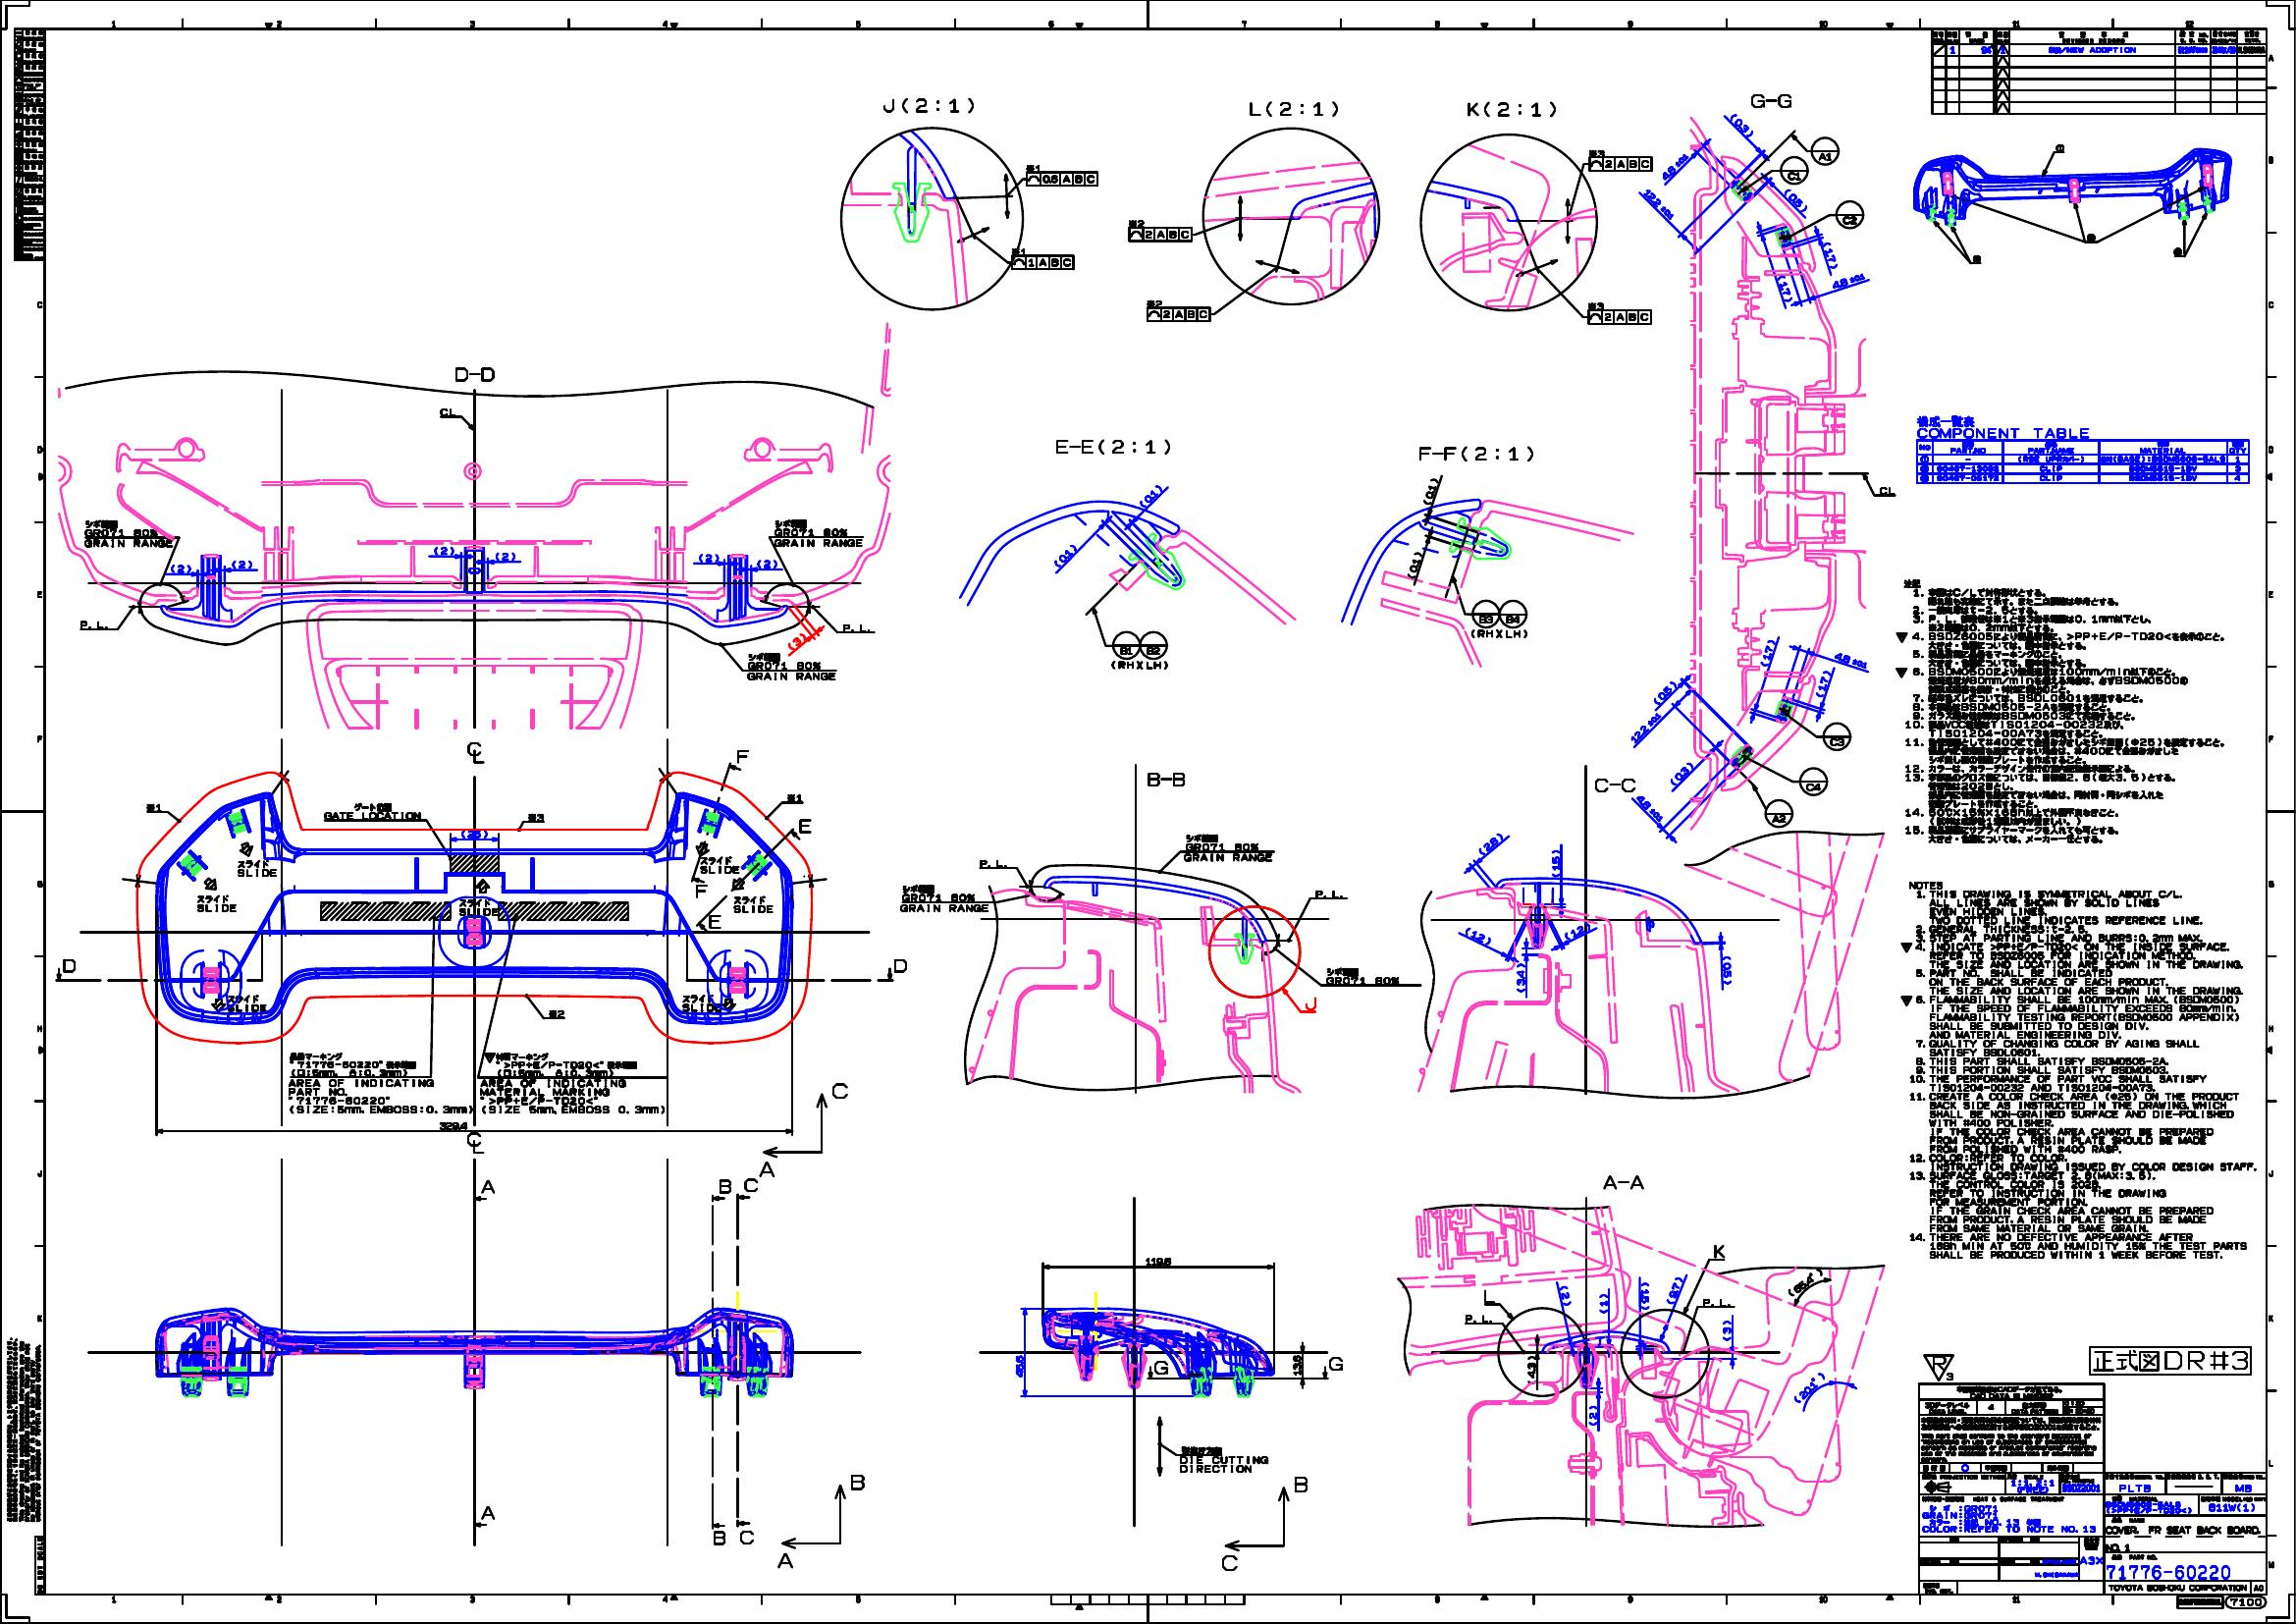anntotation_text: (1899, 879, 2257, 1260), (1895, 576, 2226, 847), (5, 1336, 40, 1522), (2089, 1345, 2252, 1378), (1915, 415, 2090, 438), (478, 1079, 627, 1106), (288, 1077, 436, 1104), (1182, 833, 1274, 865), (483, 1051, 638, 1069), (899, 884, 989, 914), (773, 518, 863, 548), (1108, 629, 1170, 671), (1179, 1445, 1270, 1473), (83, 520, 172, 548), (747, 652, 836, 680), (1416, 443, 1534, 464), (288, 1049, 416, 1069), (1470, 599, 1527, 640), (1054, 438, 1173, 455), (323, 801, 422, 819), (1024, 163, 1100, 186), (1126, 220, 1193, 244), (880, 97, 973, 114), (1465, 100, 1556, 118), (1247, 100, 1339, 118), (1588, 149, 1655, 172), (1145, 299, 1212, 322), (1586, 302, 1651, 325), (1010, 248, 1075, 271), (1325, 967, 1400, 984), (1809, 135, 1841, 165), (1922, 1352, 1955, 1380), (1822, 721, 1852, 750), (1764, 798, 1794, 828), (457, 898, 502, 917), (1780, 155, 1808, 185), (1799, 766, 1827, 796), (682, 993, 724, 1012), (733, 895, 775, 914), (1836, 200, 1864, 228), (197, 893, 237, 912), (1748, 93, 1792, 111), (1600, 1174, 1646, 1190), (699, 856, 740, 874), (237, 859, 278, 877), (227, 995, 267, 1012), (1593, 777, 1635, 793), (1145, 770, 1186, 786), (455, 366, 495, 381), (2226, 1596, 2266, 1608), (775, 1552, 796, 1570), (757, 1160, 775, 1178), (831, 1083, 848, 1100), (1221, 1554, 1237, 1571), (848, 1473, 864, 1490), (738, 1529, 754, 1545), (480, 1504, 495, 1520), (480, 1178, 495, 1193), (892, 958, 908, 974), (741, 1178, 757, 1193), (466, 740, 481, 756), (978, 859, 1007, 868), (1702, 1297, 1730, 1306), (1465, 1313, 1493, 1322), (1293, 1475, 1307, 1492), (1314, 889, 1342, 898), (79, 620, 107, 629), (1328, 1355, 1342, 1371), (466, 1132, 481, 1146), (717, 1178, 731, 1193), (61, 958, 76, 974), (1154, 1360, 1168, 1374), (841, 624, 870, 631), (1713, 1243, 1725, 1258), (713, 1529, 726, 1545), (527, 812, 545, 823), (437, 408, 457, 417), (548, 1009, 564, 1018), (146, 803, 162, 812), (1973, 255, 1983, 265), (1880, 487, 1895, 494), (2085, 232, 2097, 241), (2173, 246, 2184, 255), (2055, 142, 2064, 153)
dimension_text: (288, 1104, 473, 1116), (481, 1104, 664, 1116), (497, 1069, 613, 1077), (290, 1069, 406, 1076), (1423, 476, 1437, 506), (1632, 801, 1667, 812), (1830, 274, 1866, 285), (1669, 148, 1679, 183), (1641, 707, 1650, 747), (1639, 199, 1679, 207), (1059, 540, 1070, 569), (1790, 1278, 1818, 1288), (1409, 550, 1419, 578), (1137, 490, 1165, 501), (1834, 656, 1867, 664), (1291, 1353, 1303, 1376), (1795, 1383, 1822, 1394), (439, 1121, 469, 1130), (791, 629, 803, 650), (1144, 1257, 1172, 1265), (755, 557, 778, 568), (1669, 1280, 1679, 1301), (699, 552, 718, 562), (495, 550, 515, 561), (432, 547, 455, 555), (1481, 838, 1498, 849), (1676, 765, 1686, 782), (1525, 1362, 1535, 1380), (1657, 687, 1672, 698), (1780, 281, 1790, 297), (1734, 120, 1750, 130), (1516, 968, 1525, 986), (1787, 195, 1804, 204), (1641, 1288, 1650, 1304), (1723, 961, 1732, 977), (1470, 932, 1486, 940), (1569, 926, 1585, 935), (1551, 856, 1560, 872), (1764, 645, 1773, 661), (1818, 675, 1827, 691), (1825, 248, 1834, 264), (1722, 1325, 1732, 1336), (176, 564, 186, 573), (1588, 1411, 1597, 1420), (1599, 1299, 1607, 1308), (237, 559, 246, 568), (1560, 1292, 1569, 1299)
object: (51, 320, 898, 733), (135, 772, 813, 1044), (1397, 1202, 1885, 1527), (1688, 114, 1867, 831), (1416, 830, 1887, 1098), (963, 861, 1302, 1095), (153, 1306, 796, 1399), (1339, 497, 1635, 668), (957, 499, 1296, 626), (838, 127, 1024, 313), (1200, 125, 1381, 306), (1418, 132, 1597, 313), (1913, 146, 2233, 227), (1042, 1306, 1275, 1399)
title_block: (1917, 1381, 2268, 1596), (1931, 26, 2266, 114), (1915, 438, 2250, 483), (12, 26, 46, 262)
